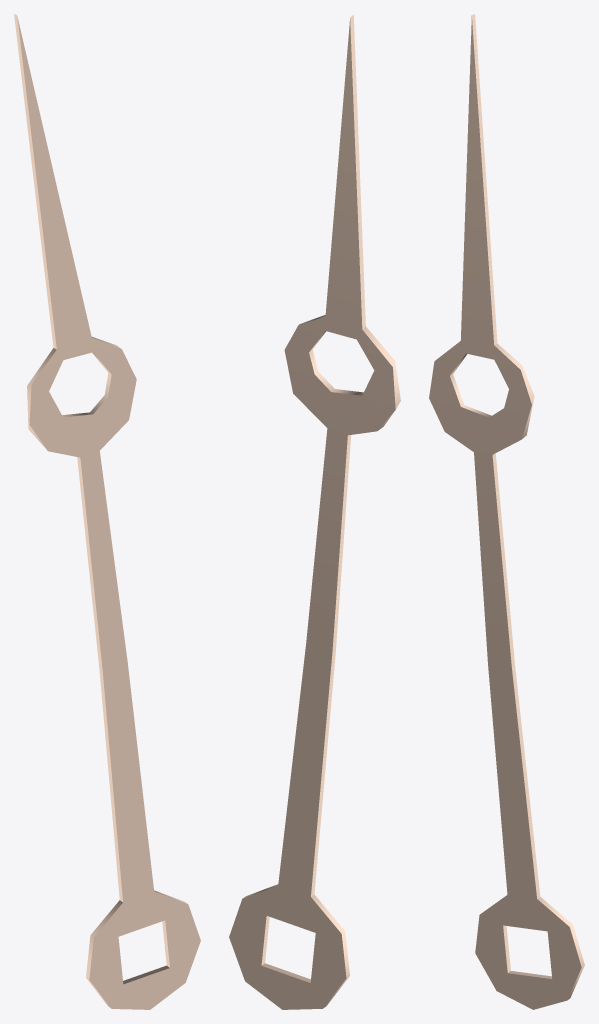
Rendered from Aiguille Minutes.obj.
The picture shows the model from 3 angles, left to right: view 1: azimuth 30°, elevation 25°; view 2: azimuth 150°, elevation 25°; view 3: azimuth 330°, elevation 25°; orthographic projection. The views are drawn at different scales.
Parts seen in each view (by area): view 1: Face_7, Face_3, Face_17, Face_9, Face_15, Face_4; view 2: Face_8, Face_5, Face_17, Face_9, Face_15, Face_4, Face_16; view 3: Face_7, Face_3, Face_14, Face_1, Face_2, Face_4, Face_6.
Part boxes in pixels (x1,y1,x2,y2): Face_7: (17,16,136,670); Face_3: (89,662,200,1009); Face_17: (14,14,56,349); Face_9: (99,668,122,901); Face_15: (77,457,102,670); Face_4: (86,890,187,1007); Face_8: (284,18,395,652); Face_5: (229,644,346,1009); Face_17: (350,14,365,328); Face_9: (311,651,335,896); Face_15: (332,435,351,652); Face_4: (243,884,349,1008); Face_16: (362,326,400,430); Face_7: (429,15,531,667); Face_3: (475,664,581,1009); Face_14: (472,14,497,344); Face_1: (512,665,540,898); Face_2: (492,453,514,666); Face_4: (537,896,584,1000); Face_6: (494,343,534,438).
Bounding box in the file's own units: 0.0212 × 0.1214 × 0.00832.
